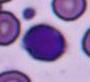L: (22, 24, 67, 62)
